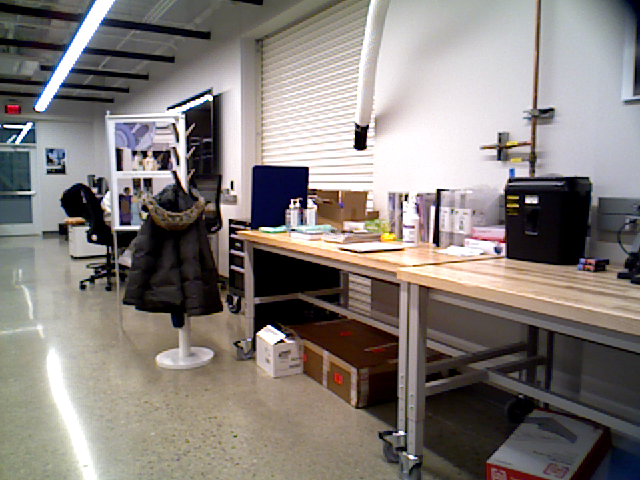painting3: (42, 146, 67, 175)
